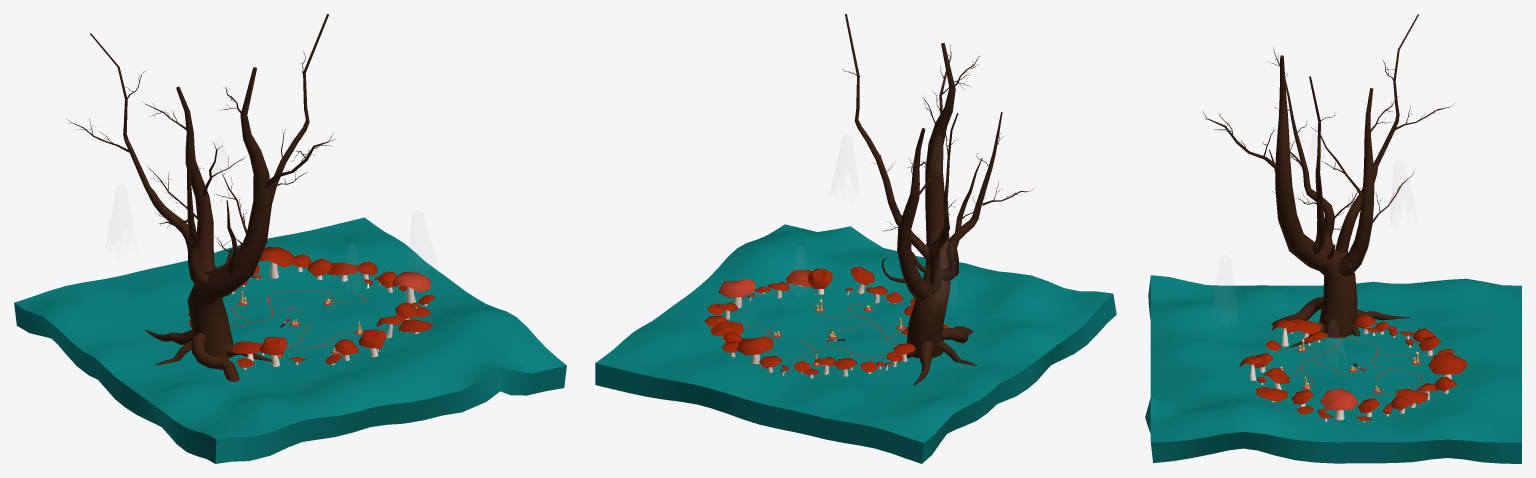
File: fairy_ring.glb
3 renders of one model, left to right at view 1: azimuth 30°, elevation 25°; view 2: azimuth 150°, elevation 25°; view 3: azimuth 270°, elevation 25°, orthographic. The views are drawn at different scales.
Parts seen in each view (by area): view 1: pPlane2, polySurface26, pCylinder111, pCylinder68; view 2: pPlane2, polySurface26, pCylinder68, pCylinder40; view 3: pPlane2, polySurface26, pCylinder68, pCylinder40, pCylinder111, curve20, polySurface47.
Boxes of the visible parts, box(x1,y1,x2,y2) form: pPlane2: box(14, 217, 566, 463); polySurface26: box(90, 14, 328, 358); pCylinder111: box(191, 333, 239, 381); pCylinder68: box(259, 247, 293, 278); pPlane2: box(595, 224, 1116, 463); polySurface26: box(845, 14, 1002, 358); pCylinder68: box(736, 336, 773, 364); pCylinder40: box(718, 279, 755, 297); pPlane2: box(1145, 275, 1521, 463); polySurface26: box(1269, 14, 1418, 338); pCylinder68: box(1428, 352, 1466, 379); pCylinder40: box(1320, 388, 1358, 410); pCylinder111: box(1271, 296, 1323, 325); curve20: box(1289, 337, 1421, 398); polySurface47: box(1203, 111, 1277, 169).
Size of the model in its own units: 26.64 by 25.12 by 26.87.
